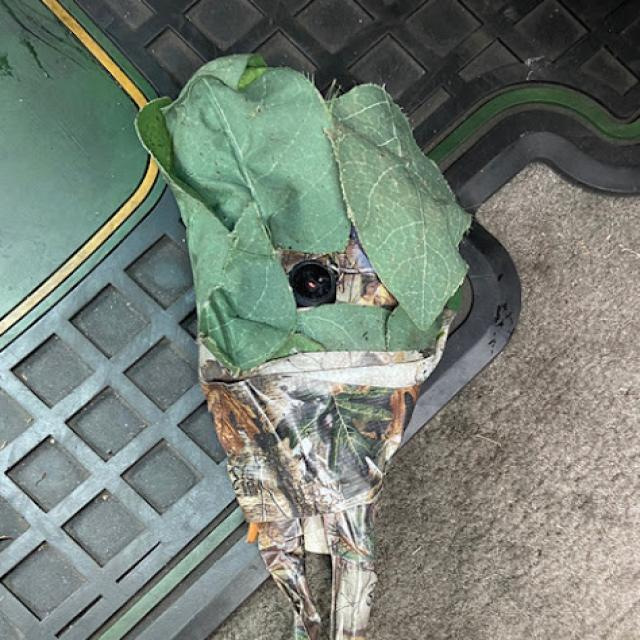hidden camera: (290, 260, 333, 306)
